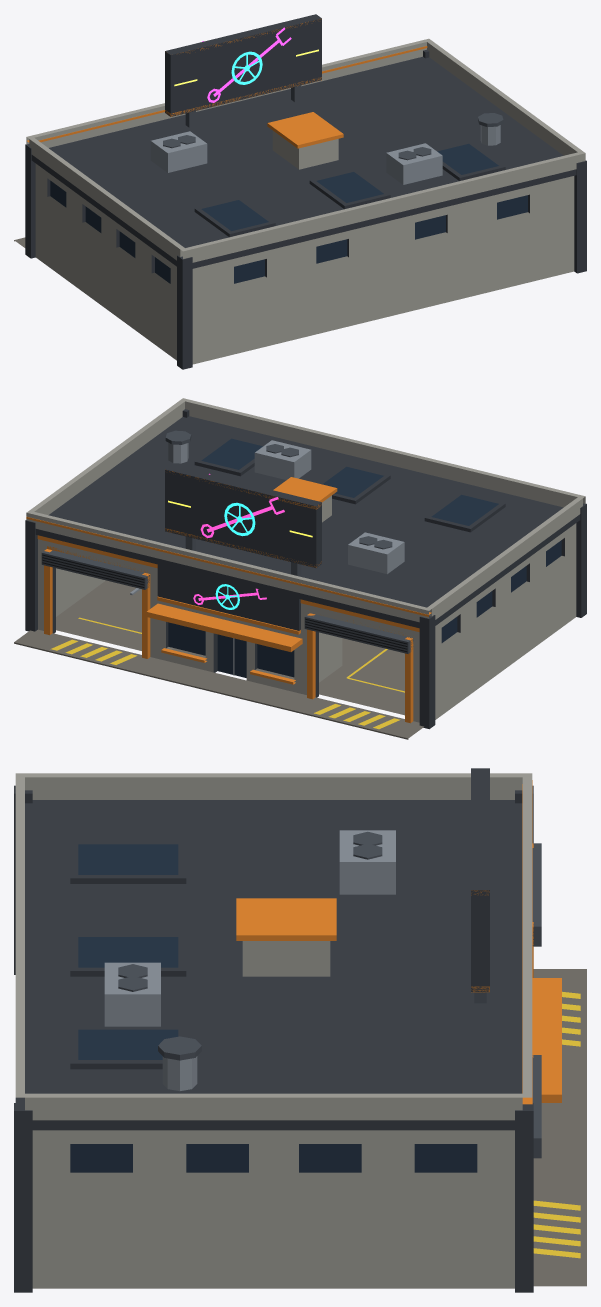
The model's file is garage_shop.glb.
3 views of the same model, one above another, from view 1: azimuth 30°, elevation 25°; view 2: azimuth 150°, elevation 25°; view 3: azimuth 270°, elevation 25° (orthographic). The views are drawn at different scales.
Visible parts, largest first — view 1: Body; view 2: Body; view 3: Body.
Boxes of the visible parts, <box> form: Body: <box>14,14,586,369</box>; Body: <box>14,398,586,739</box>; Body: <box>14,768,586,1292</box>.
Size of what is drawn, in the model's own units: 24.6 by 10.64 by 18.3.
